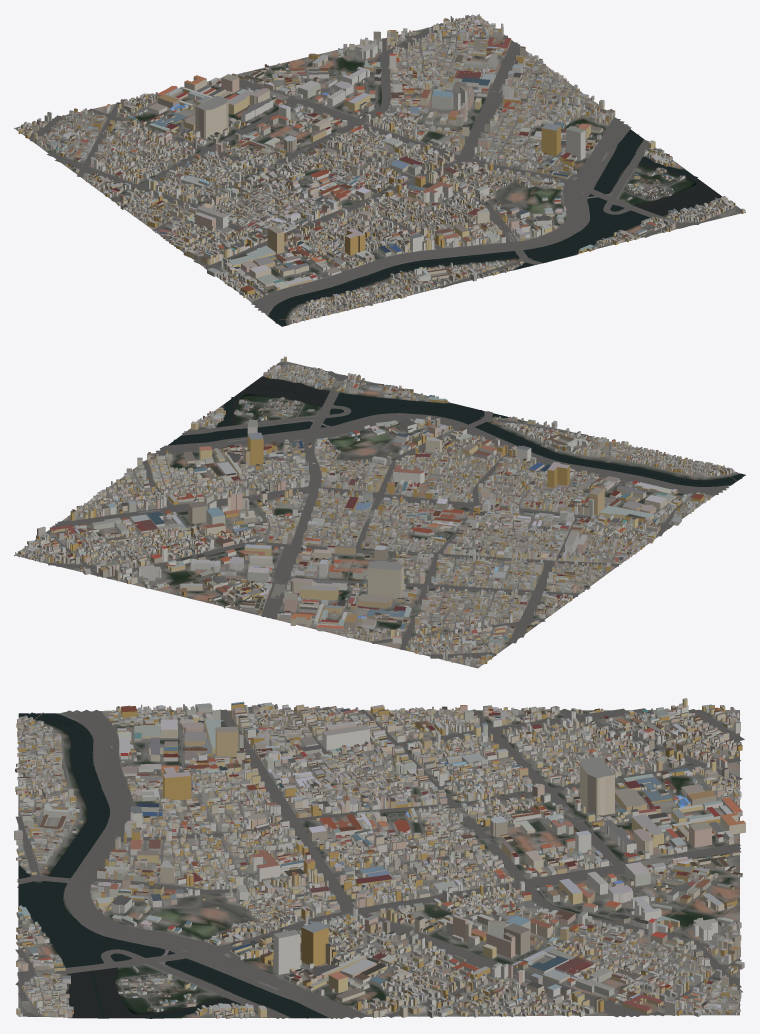
3 renders of one model, top to bottom at view 1: azimuth 30°, elevation 25°; view 2: azimuth 150°, elevation 25°; view 3: azimuth 270°, elevation 25°, orthographic. The views are drawn at different scales.
Visible parts, largest first — view 1: buildings, ground, roads, water; view 2: buildings, ground, roads, water; view 3: buildings, ground, roads, water.
Part boxes in pixels (left/top/right/bottom): buildings: left=16, top=14, right=745, bottom=323; ground: left=14, top=15, right=745, bottom=326; roads: left=15, top=17, right=740, bottom=324; water: left=268, top=129, right=721, bottom=326; buildings: left=15, top=356, right=734, bottom=666; ground: left=14, top=361, right=745, bottom=668; roads: left=17, top=361, right=737, bottom=667; water: left=168, top=376, right=744, bottom=486; buildings: left=14, top=698, right=745, bottom=1018; ground: left=18, top=710, right=739, bottom=1018; roads: left=15, top=708, right=744, bottom=1018; water: left=17, top=712, right=328, bottom=1018.
Size of the model in its own units: 1419 by 92.65 by 1421.
